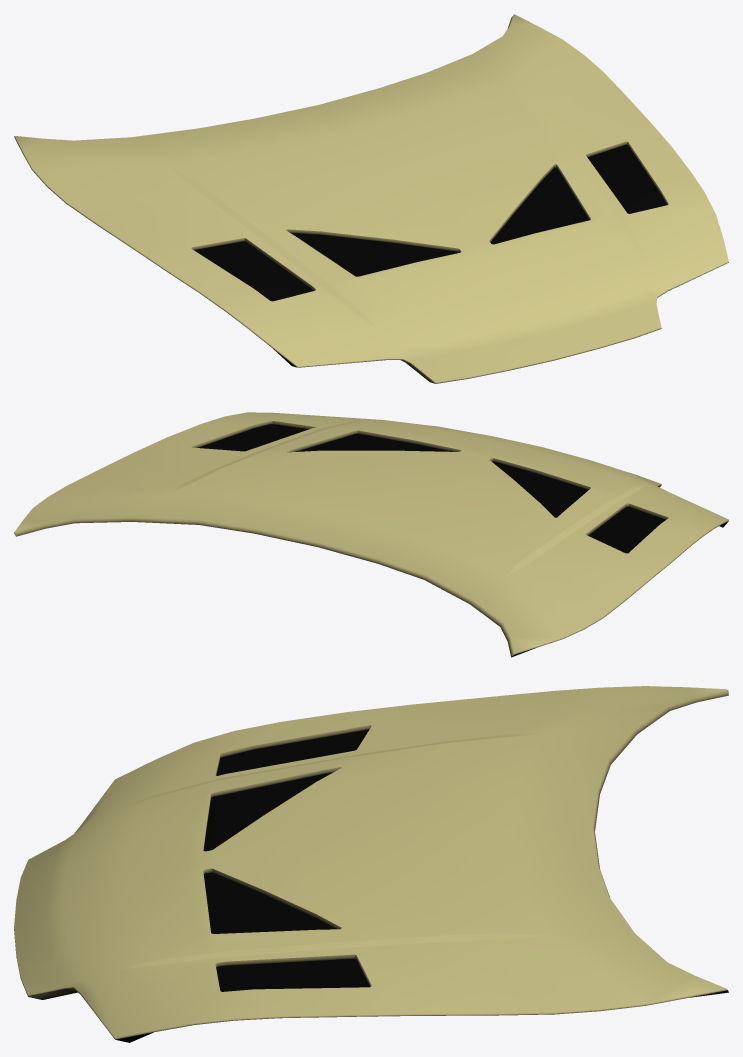
File: Supra_Bonnet_05_Duco.fbx
3 renders of one model, top to bottom at view 1: azimuth 30°, elevation 25°; view 2: azimuth 150°, elevation 25°; view 3: azimuth 270°, elevation 25°, orthographic. The views are drawn at different scales.
Visible parts, largest first — view 1: Supra_Bonnet_05_Duco; view 2: Supra_Bonnet_05_Duco; view 3: Supra_Bonnet_05_Duco.
Boxes of the visible parts, bbox=[...] form: Supra_Bonnet_05_Duco: bbox=[14, 14, 728, 383]; Supra_Bonnet_05_Duco: bbox=[14, 412, 728, 657]; Supra_Bonnet_05_Duco: bbox=[14, 686, 728, 1042].
Bounding box in the file's own units: 157 × 24.03 × 147.
